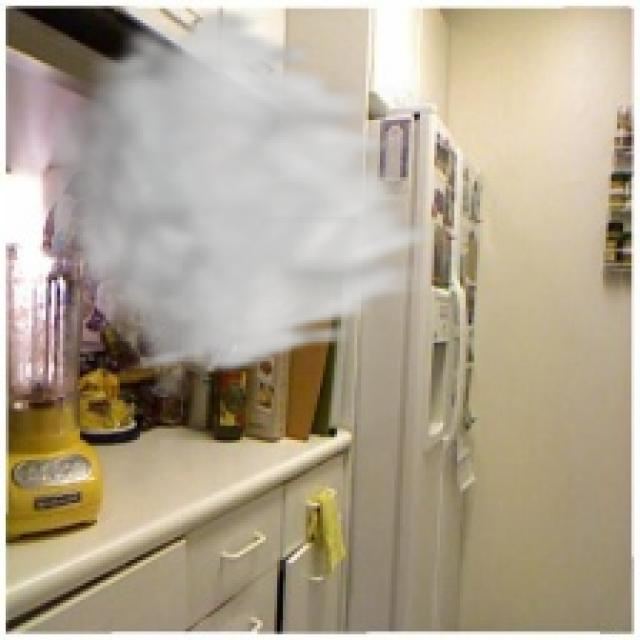smoke: (34, 3, 449, 377)
